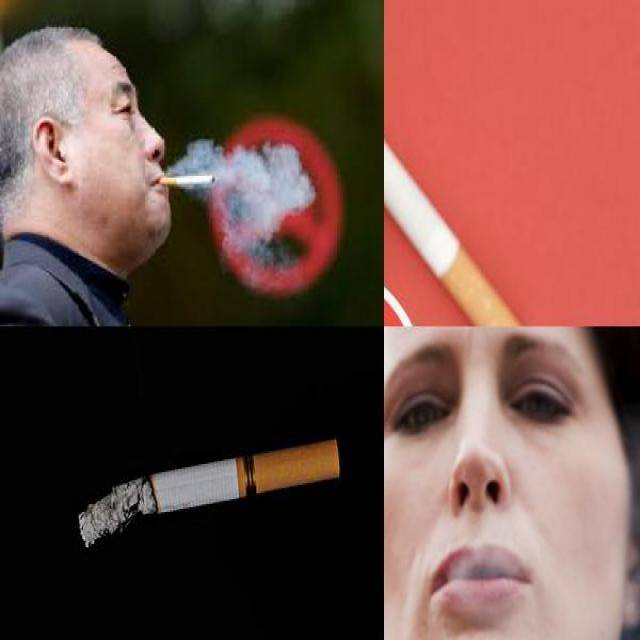cigarette: (383, 2, 532, 324), (75, 438, 342, 550), (157, 176, 215, 187)
